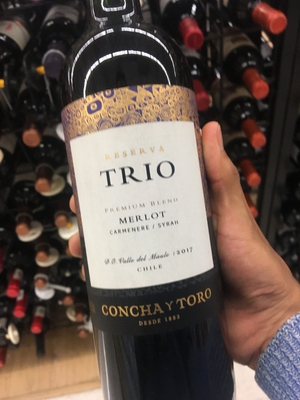trio merlot: (50, 15, 230, 391)
